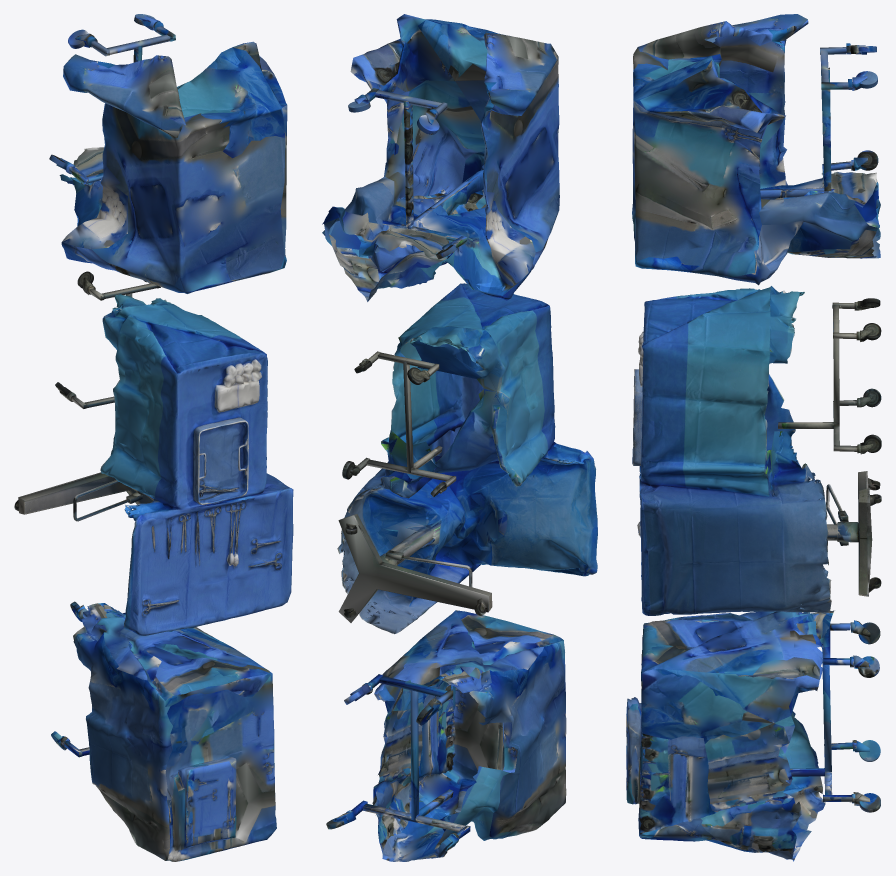
3 views of the same model, side by side, from view 1: azimuth 30°, elevation 25°; view 2: azimuth 150°, elevation 25°; view 3: azimuth 270°, elevation 25° (orthographic). The views are drawn at different scales.
Parts seen in each view (by area): view 1: Object_4, Object_2, Object_3; view 2: Object_4, Object_2, Object_3; view 3: Object_4, Object_2, Object_3.
Part boxes in pixels (x1,y1,x2,y2): Object_4: [14, 271, 293, 635]; Object_2: [49, 14, 287, 293]; Object_3: [51, 601, 276, 861]; Object_4: [337, 283, 597, 634]; Object_2: [322, 14, 559, 301]; Object_3: [326, 610, 566, 861]; Object_4: [632, 286, 881, 615]; Object_2: [632, 14, 880, 285]; Object_3: [626, 610, 880, 861].
Size of the model in its own units: 108 by 429 by 123.
3 materials, 3 textured.
